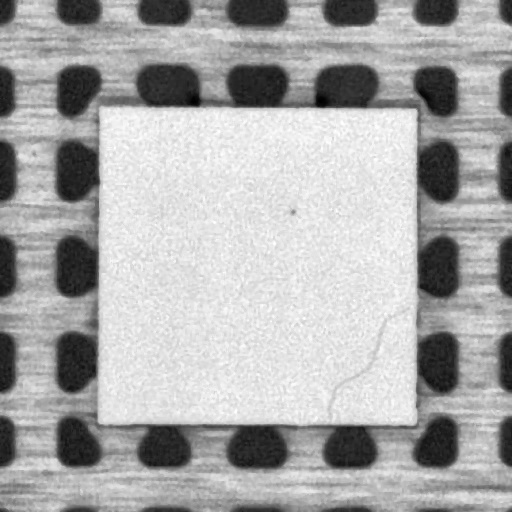DIE_CRACK: (325, 306, 408, 422)
